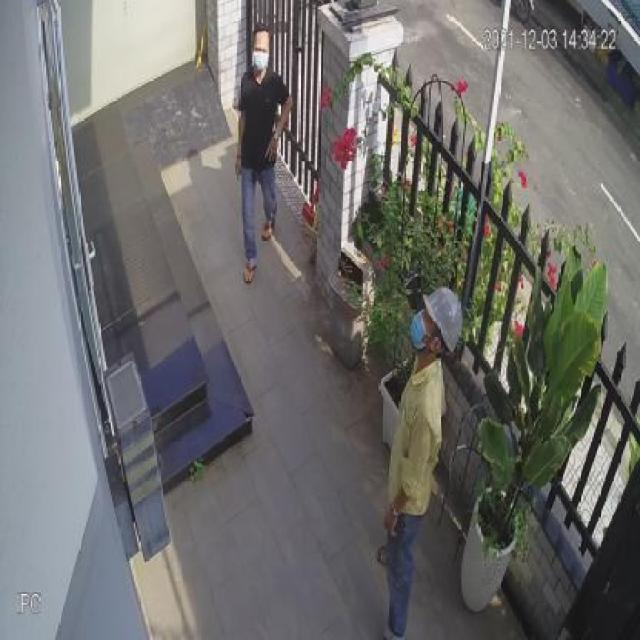Manusia: (380, 287, 465, 639), (235, 22, 294, 284)
